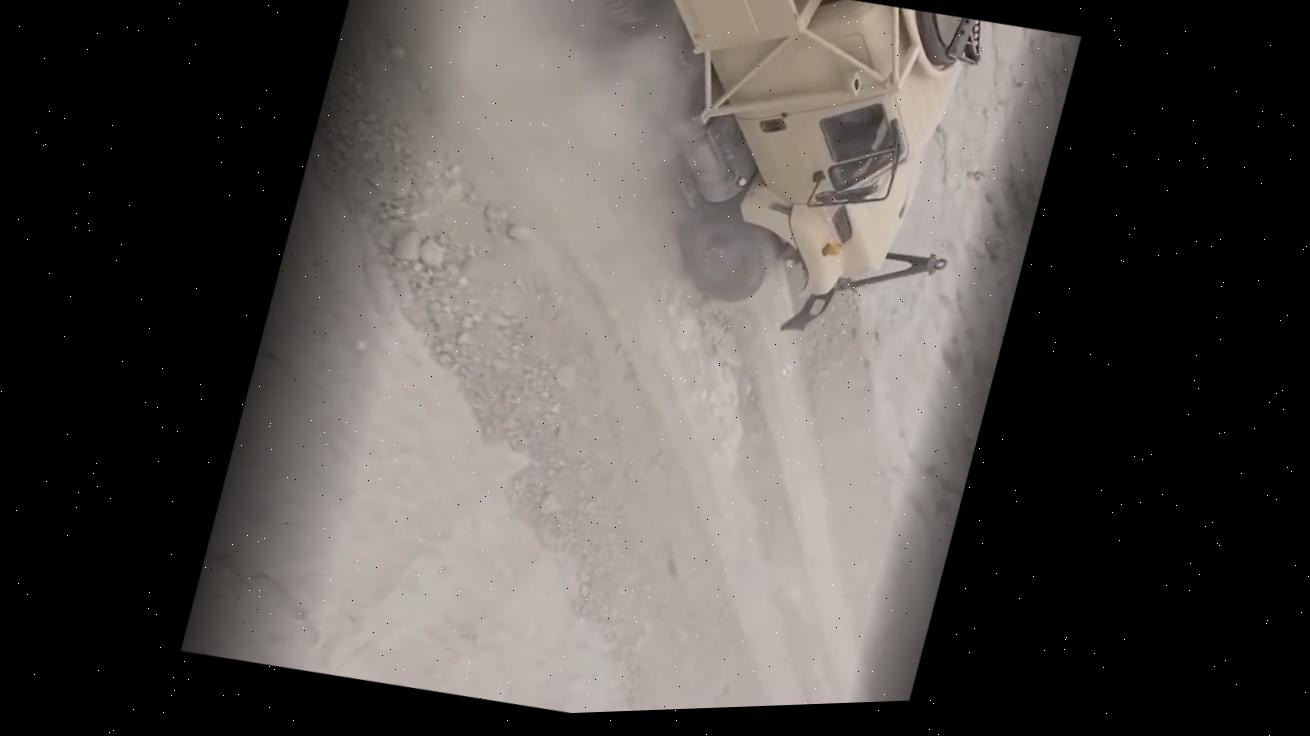truck: (312, 0, 994, 374)
